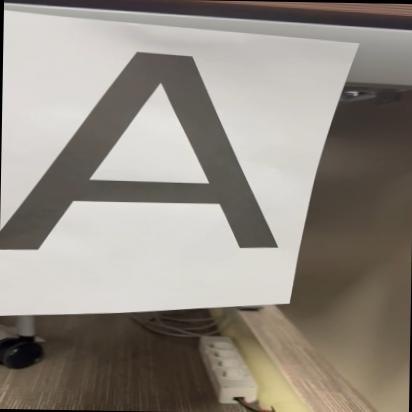seat: (0, 43, 300, 250)
